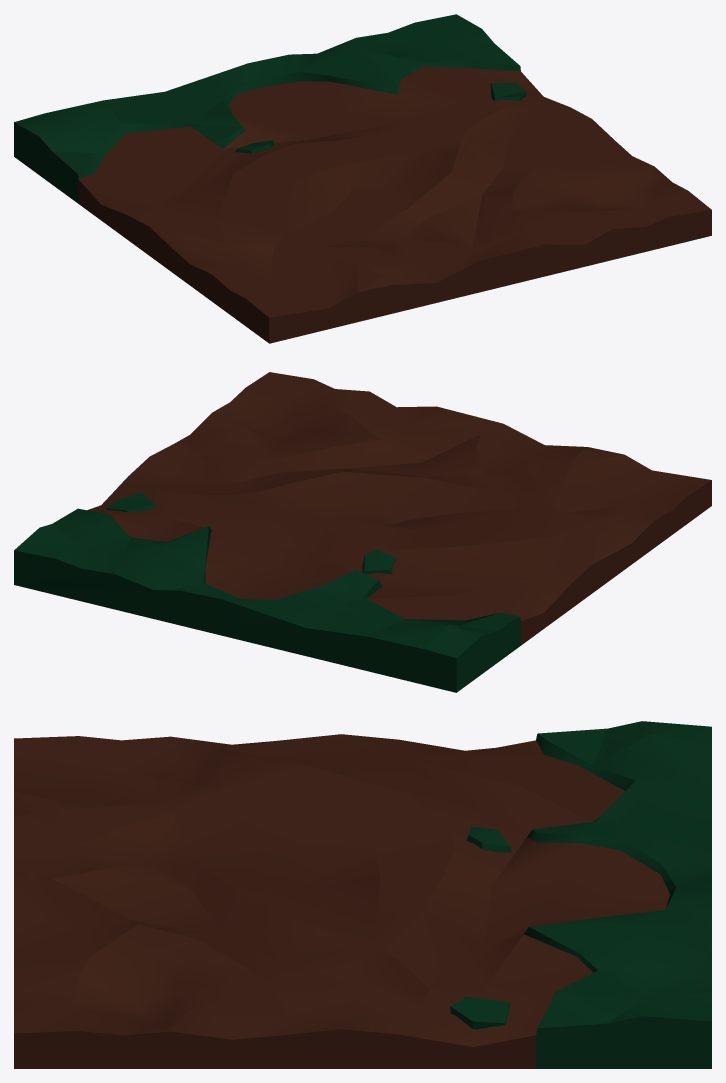
Rendered from Ground_Edge_U.fbx.
The picture shows the model from 3 angles, top to bottom: view 1: azimuth 30°, elevation 25°; view 2: azimuth 150°, elevation 25°; view 3: azimuth 270°, elevation 25°; orthographic projection. The views are drawn at different scales.
Visible parts, largest first — view 1: Ground_Edge_U; view 2: Ground_Edge_U; view 3: Ground_Edge_U.
Boxes of the visible parts, bbox=[...] form: Ground_Edge_U: bbox=[14, 14, 711, 343]; Ground_Edge_U: bbox=[14, 372, 711, 692]; Ground_Edge_U: bbox=[14, 721, 711, 1068].
Bounding box in the file's own units: 147 × 15.12 × 147.
